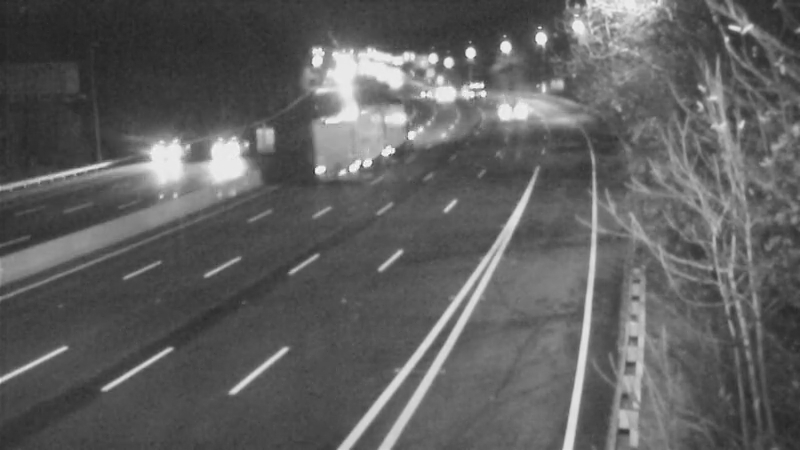vehicle: (114, 116, 194, 196), (423, 70, 473, 120), (489, 77, 539, 127), (301, 112, 351, 162), (200, 121, 250, 171), (321, 83, 371, 133)
